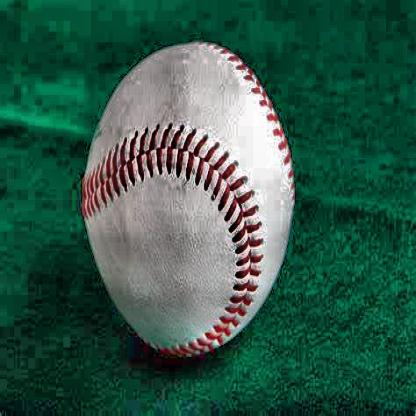baseball: (87, 41, 295, 343)
